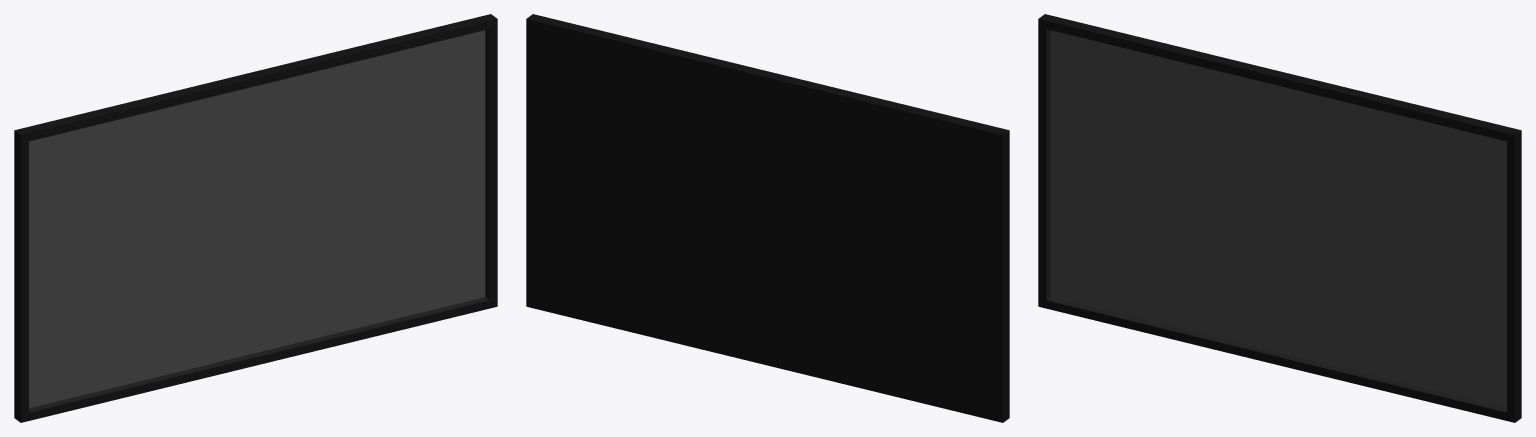
The model's file is Screen_Independent.glb.
The picture shows the model from 3 angles, left to right: view 1: azimuth 30°, elevation 25°; view 2: azimuth 150°, elevation 25°; view 3: azimuth 330°, elevation 25°; orthographic projection.
Visible parts, largest first — view 1: Screen; view 2: Screen; view 3: Screen.
Boxes of the visible parts, x1=… form: Screen: x1=14, y1=14, x2=497, y2=422; Screen: x1=526, y1=14, x2=1009, y2=422; Screen: x1=1038, y1=14, x2=1521, y2=422.
Size of the model in its own units: 7.34 by 4.23 by 0.1753.
1 material, 1 textured.
